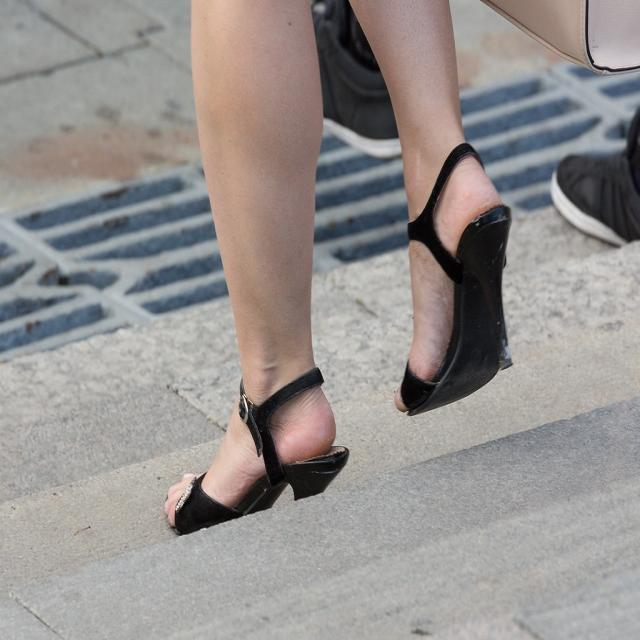piel: (166, 0, 335, 535), (346, 0, 508, 415)
